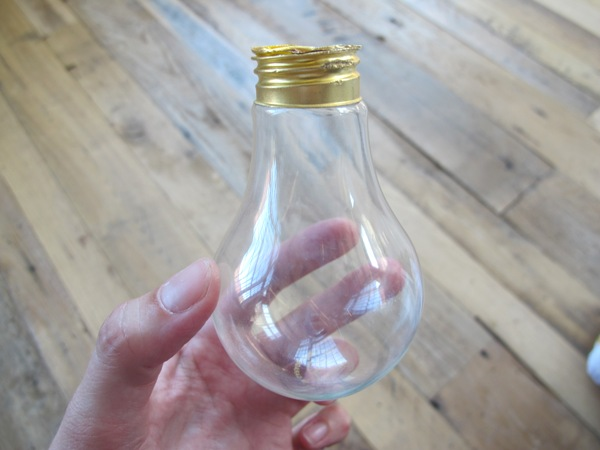Light_bulb: (201, 35, 436, 407)
